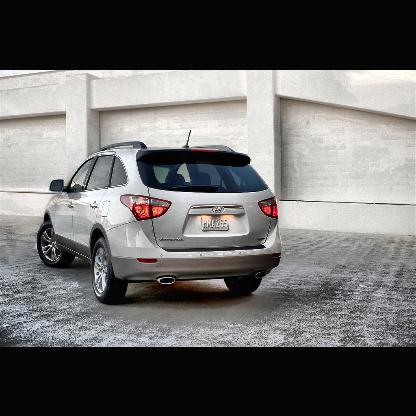Hyundai Veracruz SUV 2012: (38, 130, 285, 306)
